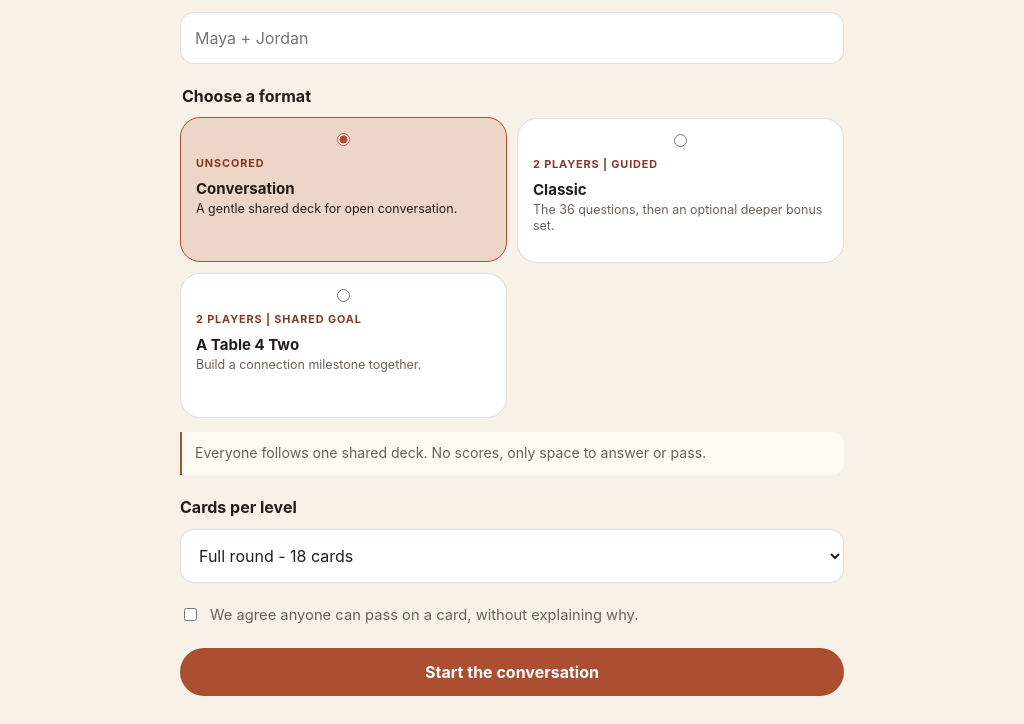
starting a conversation on one phone › reveals a card and advances to the next one
(page scrolled)
What coordinates should you click on to do the following:
click the checkbox labelled "We agree anyone can pass on a card, without explaining why."
I would click on:
 (190, 614)
Its box is [184,608,197,621].
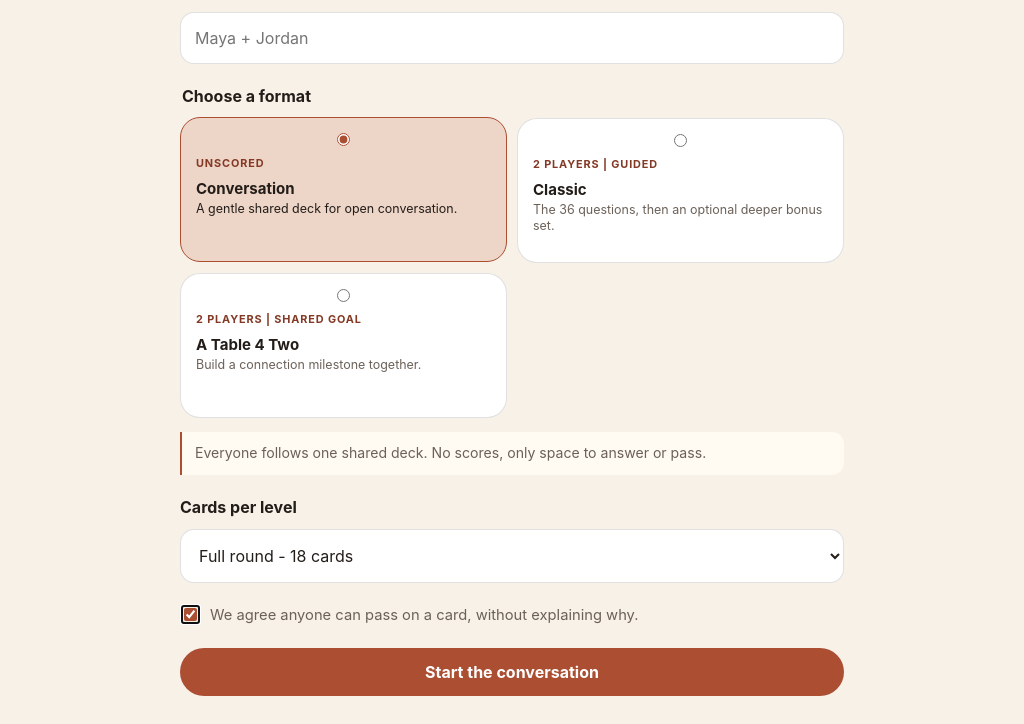
What coordinates should you click on to do the following:
click the button "Start the conversation"
I would click on:
 (512, 672)
Its box is [180,648,844,696].
(page scrolled)
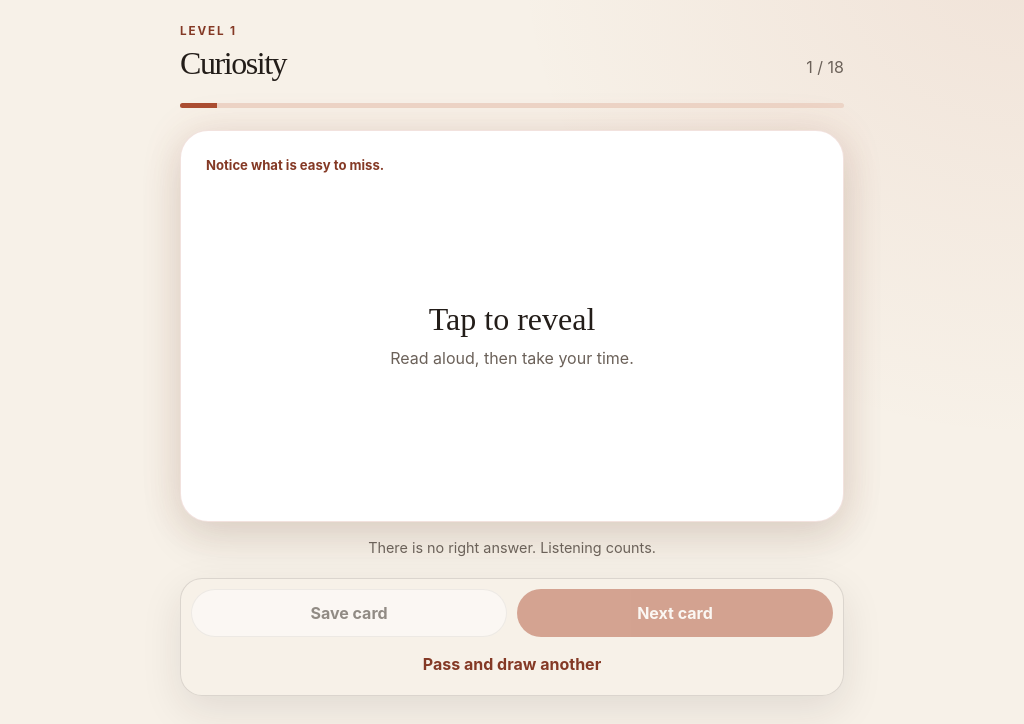
What coordinates should you click on to do the following:
click the button with aria-label "Reveal prompt card"
I would click on:
 (220, 326)
Its box is [180,130,844,522].
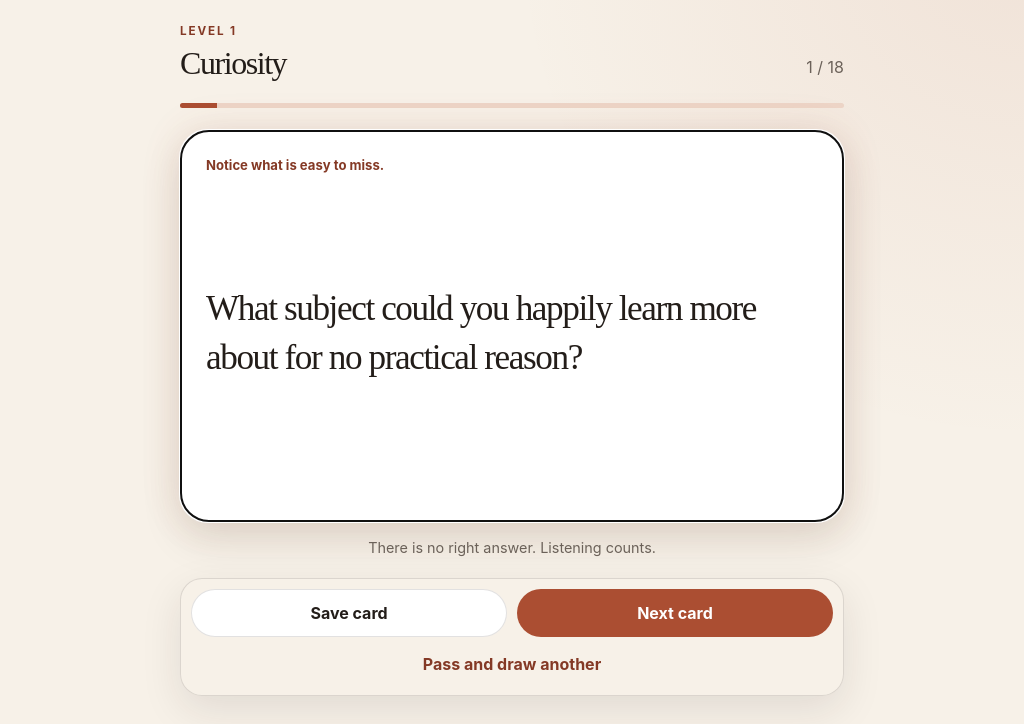
Expected: the text "Tap to reveal" is gone
What coordinates should you click on to do the following:
click the button "Next card"
I would click on:
 (675, 613)
Its box is [517,589,833,637].
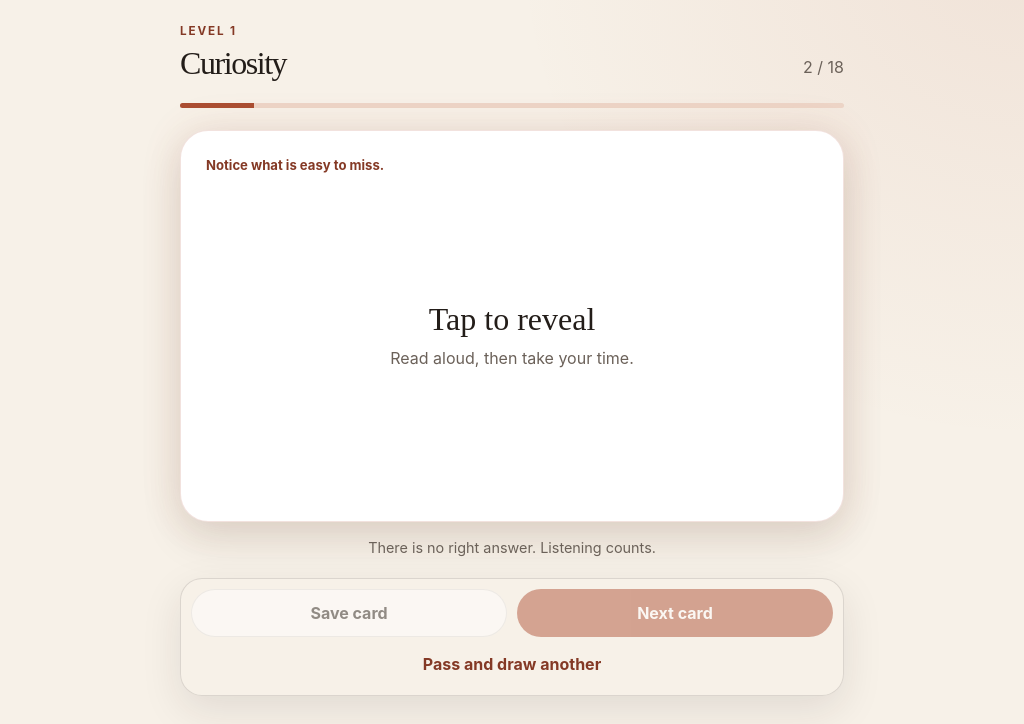
Expected: the text "2 / 18" is shown, [803,57,844,77]
Expected: the text "Tap to reveal" is shown, [429,300,595,338]
